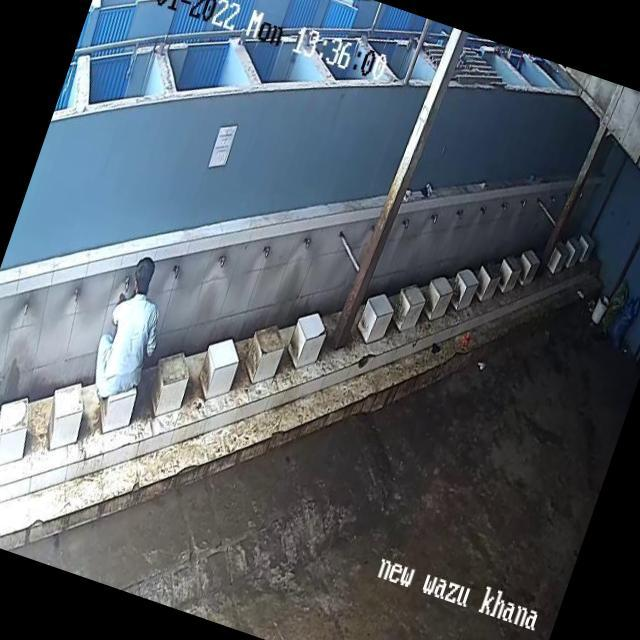person: (92, 251, 181, 398)
